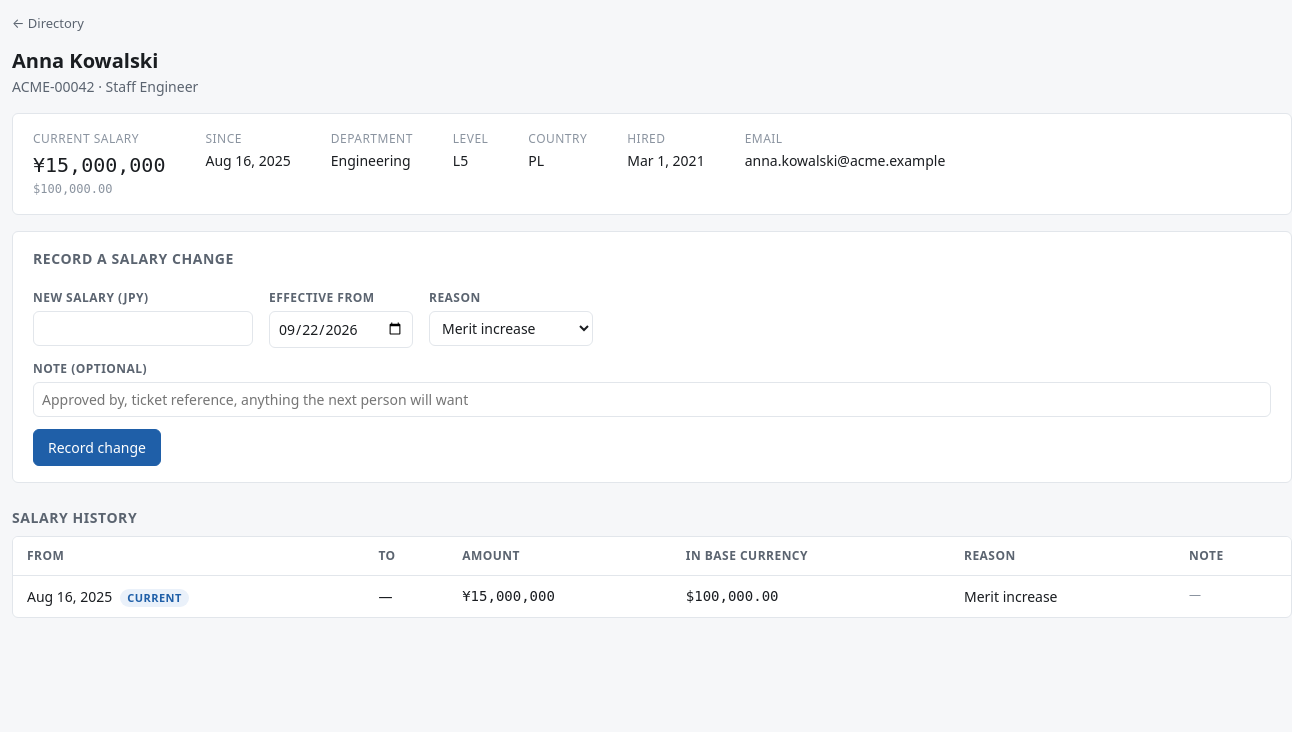
Test case: recording a salary change › refuses more precision than the currency has, without asking the server
Type "16000000.75" into the field labelled "New salary (JPY)" at x=143, y=328, box [33,310,253,346]
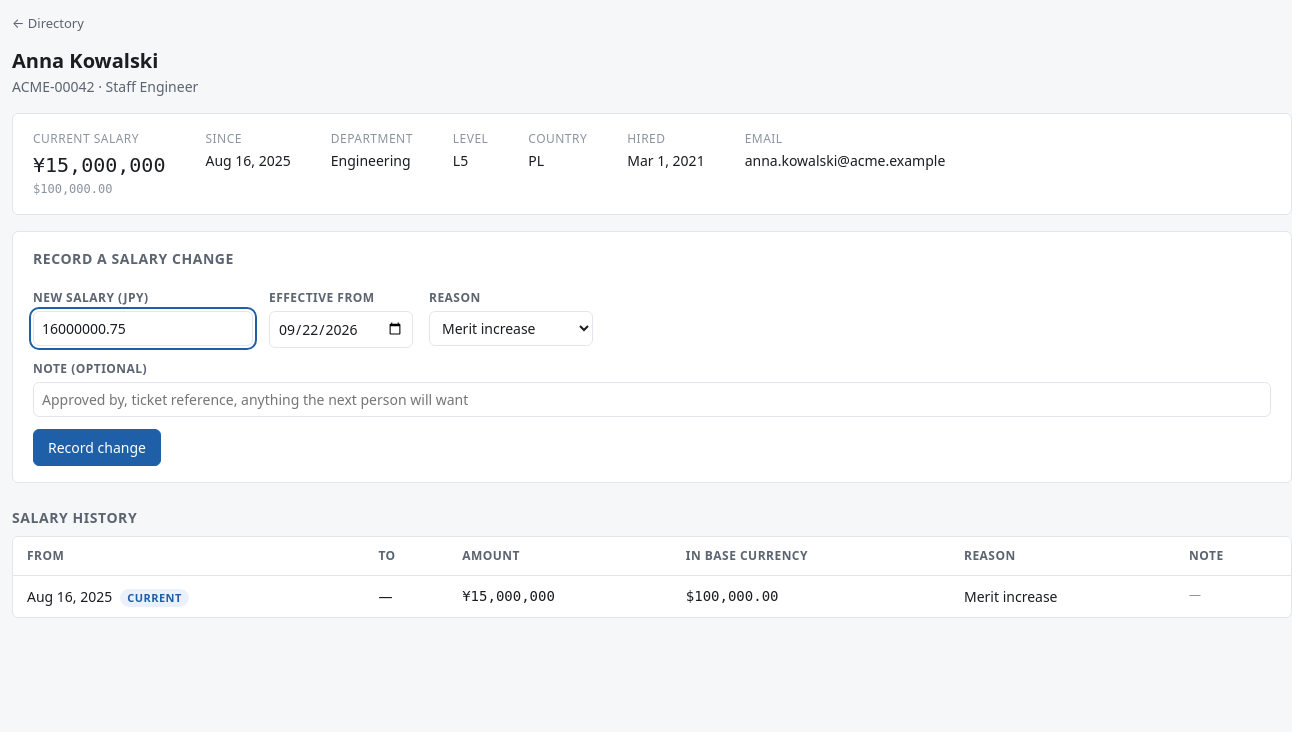
Click the button "Record change" at x=97, y=447, box [33,428,161,466]
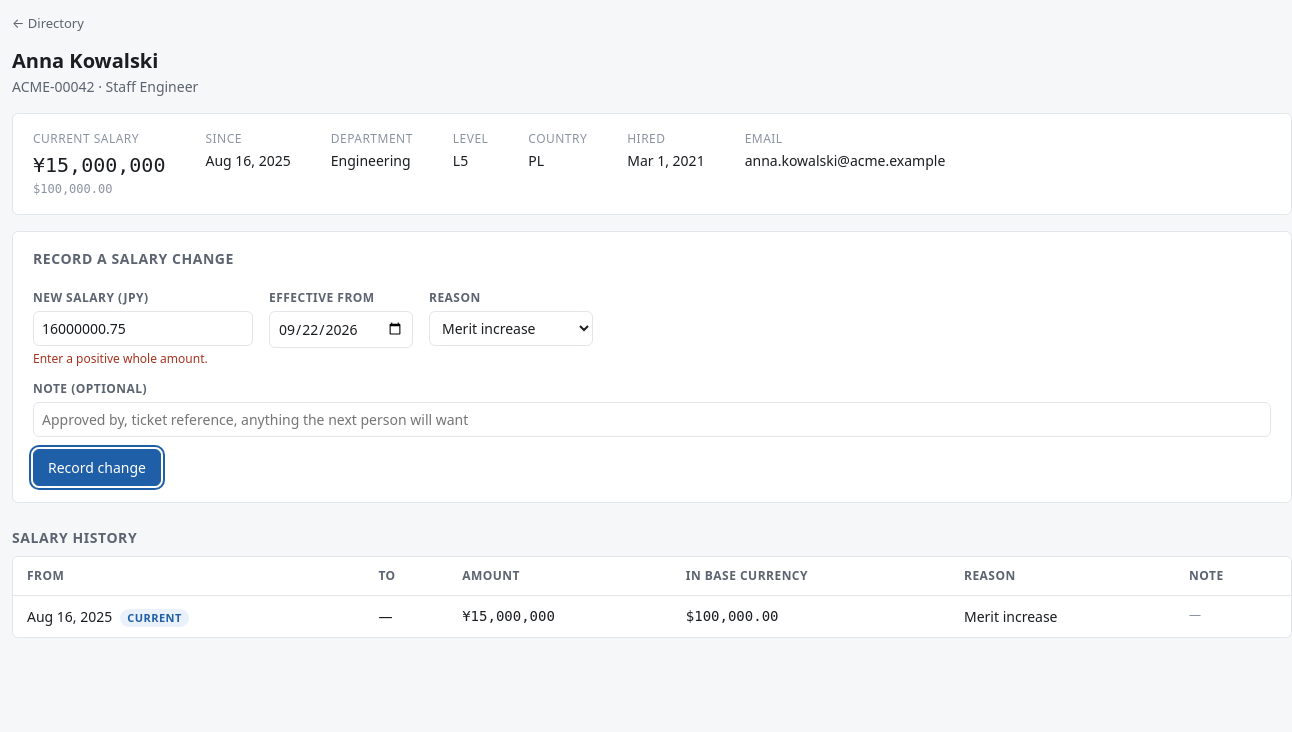
Expected: the text "Enter a positive whole amount." is shown, [33,350,208,366]
